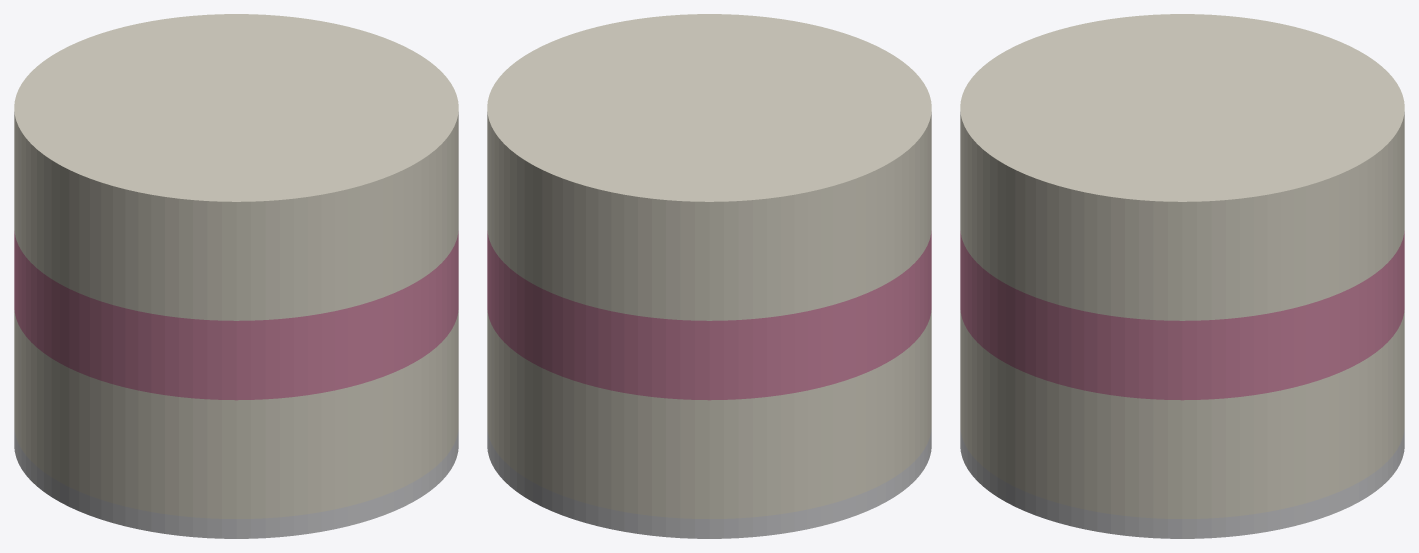
Rendered from cake_4in_layers2.glb.
3 renders of one model, left to right at view 1: azimuth 30°, elevation 25°; view 2: azimuth 150°, elevation 25°; view 3: azimuth 270°, elevation 25°, orthographic.
Parts seen in each view (by area): view 1: geometry_2, geometry_0, geometry_1, geometry_3; view 2: geometry_2, geometry_0, geometry_1, geometry_3; view 3: geometry_2, geometry_0, geometry_1, geometry_3.
Part boxes in pixels (box(x1,y1,x2,y2)): geometry_2: box(14, 14, 458, 320); geometry_0: box(14, 310, 458, 518); geometry_1: box(14, 231, 458, 400); geometry_3: box(14, 429, 458, 538); geometry_2: box(487, 14, 931, 320); geometry_0: box(487, 310, 931, 518); geometry_1: box(487, 231, 931, 400); geometry_3: box(487, 429, 931, 538); geometry_2: box(960, 14, 1404, 320); geometry_0: box(960, 310, 1404, 518); geometry_1: box(960, 231, 1404, 400); geometry_3: box(960, 429, 1404, 538).
Size of the model in its own units: 0.1016 by 0.085 by 0.1016.
